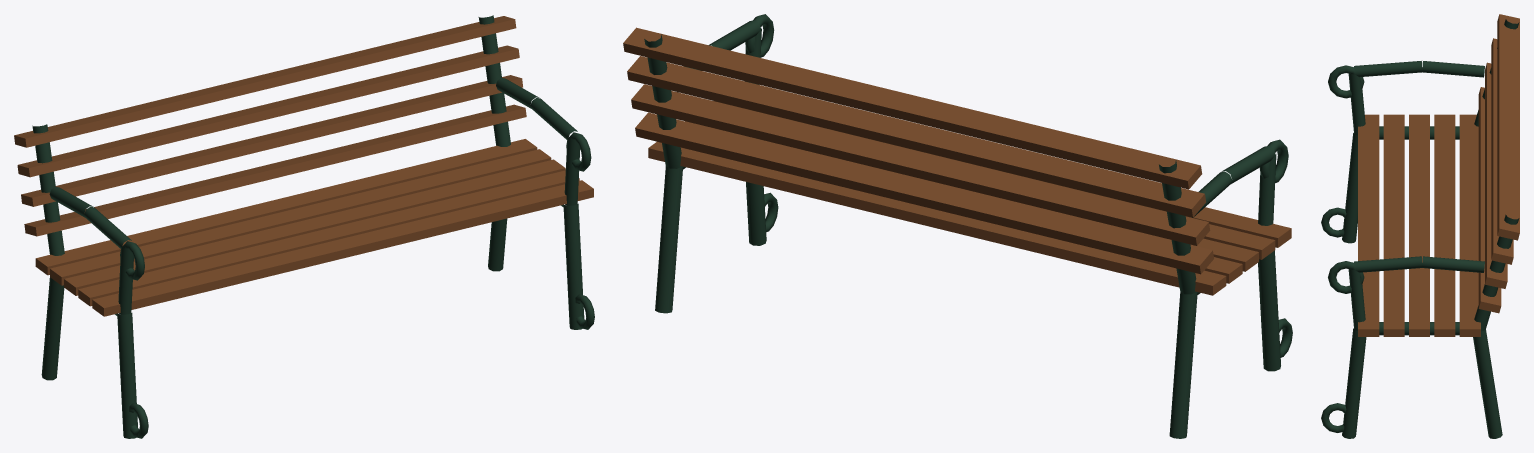
Rendered from prop_bench.glb.
The picture shows the model from 3 angles, left to right: view 1: azimuth 30°, elevation 25°; view 2: azimuth 150°, elevation 25°; view 3: azimuth 270°, elevation 25°; orthographic projection. The views are drawn at different scales.
Bounding box in the file's own units: 1.8 × 0.8701 × 0.705.
